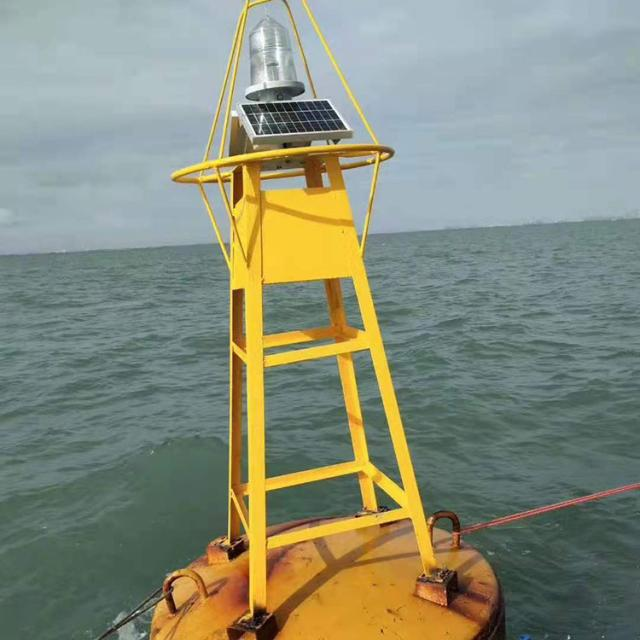buoy: (117, 0, 506, 640)
